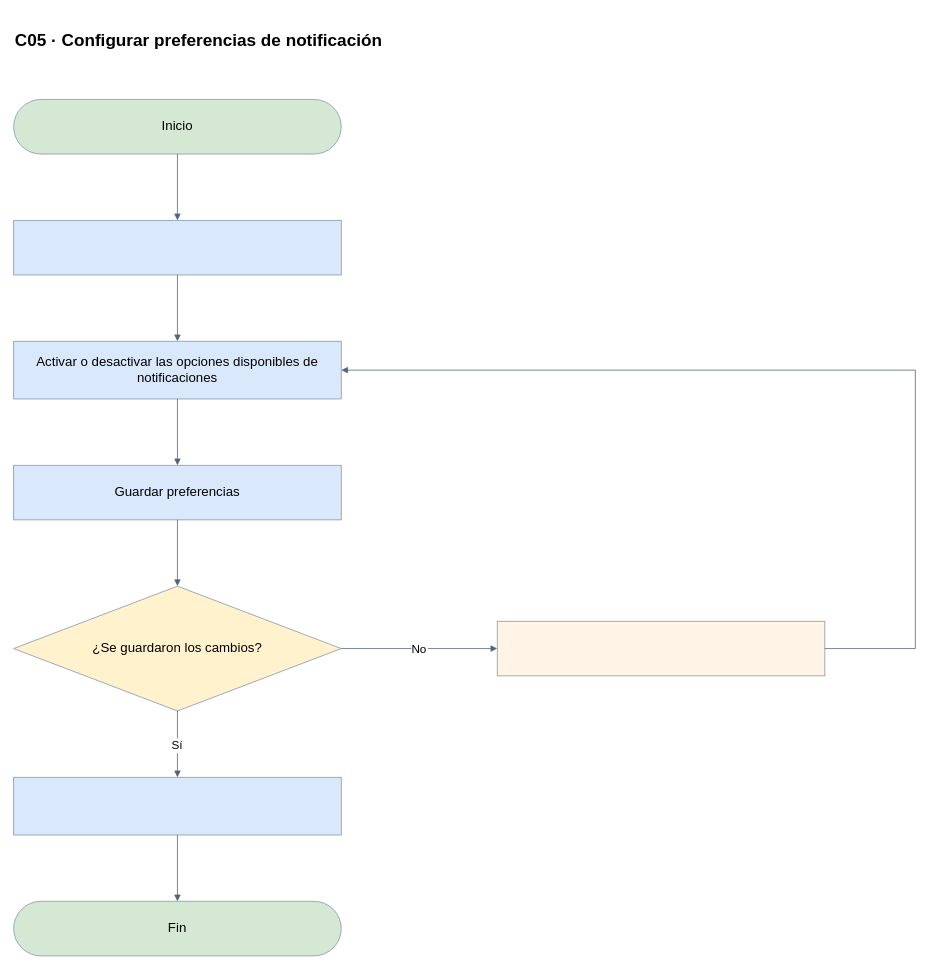
This 948x970 diagram has some shape labels left out. Each missing label, with the centre of its shape:
Abrir el centro y pulsar Preferencias: point (177, 247)
Revisar el error y volver a guardar: point (660, 648)
Ver la confirmación; la ventana se cierra y regresa al centro: point (177, 805)
